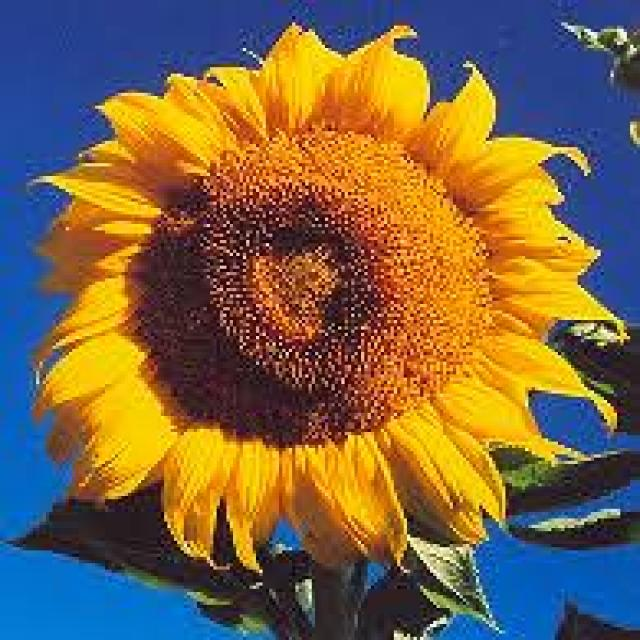sunflower: (19, 13, 632, 590)
